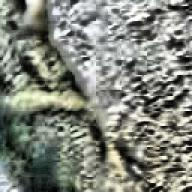boar: (0, 0, 142, 192)
